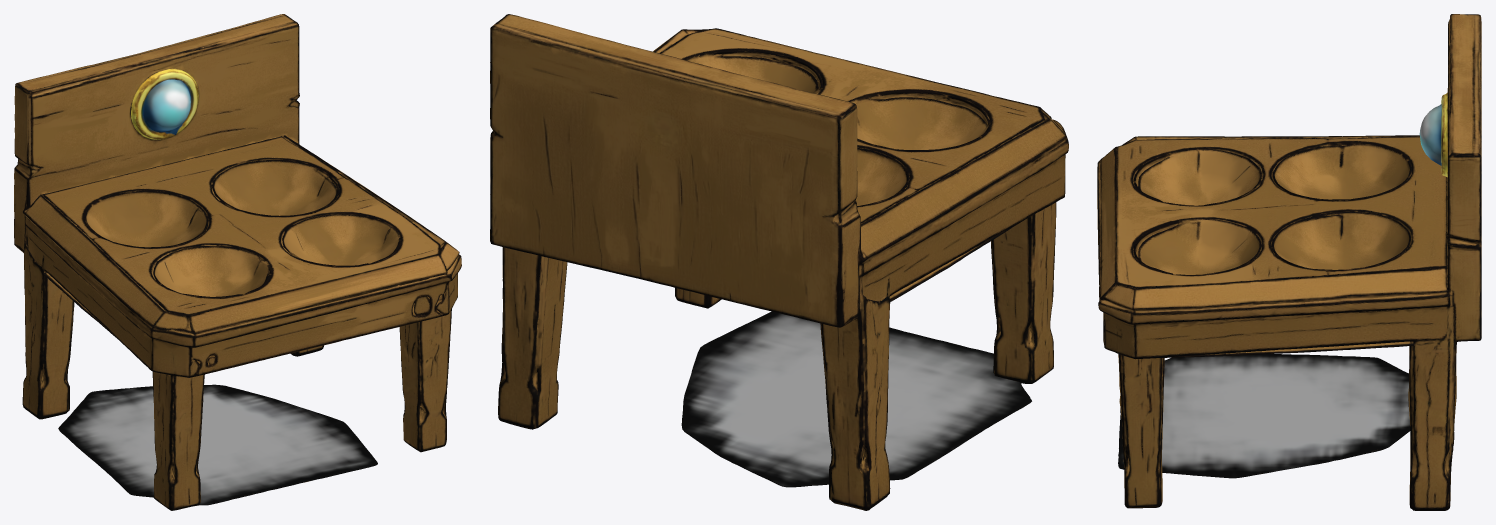
The model's file is EggTableStoreV2.fbx.
3 renders of one model, left to right at view 1: azimuth 30°, elevation 25°; view 2: azimuth 150°, elevation 25°; view 3: azimuth 270°, elevation 25°, orthographic. The views are drawn at different scales.
Parts seen in each view (by area): view 1: geometry_0; view 2: geometry_0; view 3: geometry_0.
Boxes of the visible parts, x1,y1,x2,y2 form: geometry_0: [14, 14, 461, 510]; geometry_0: [490, 14, 1068, 510]; geometry_0: [1097, 14, 1481, 510].
Bounding box in the file's own units: 100 × 98.57 × 96.98.
Materials: 1 (1 with a texture image).
